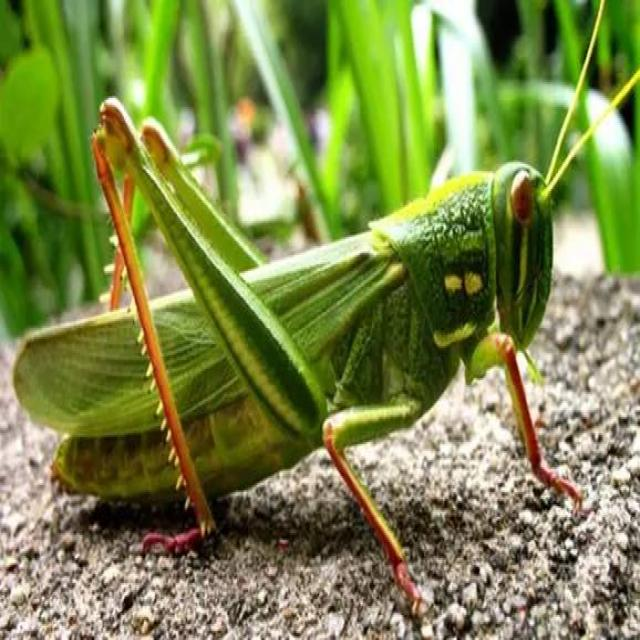ZhaMeng: (23, 81, 563, 538)
